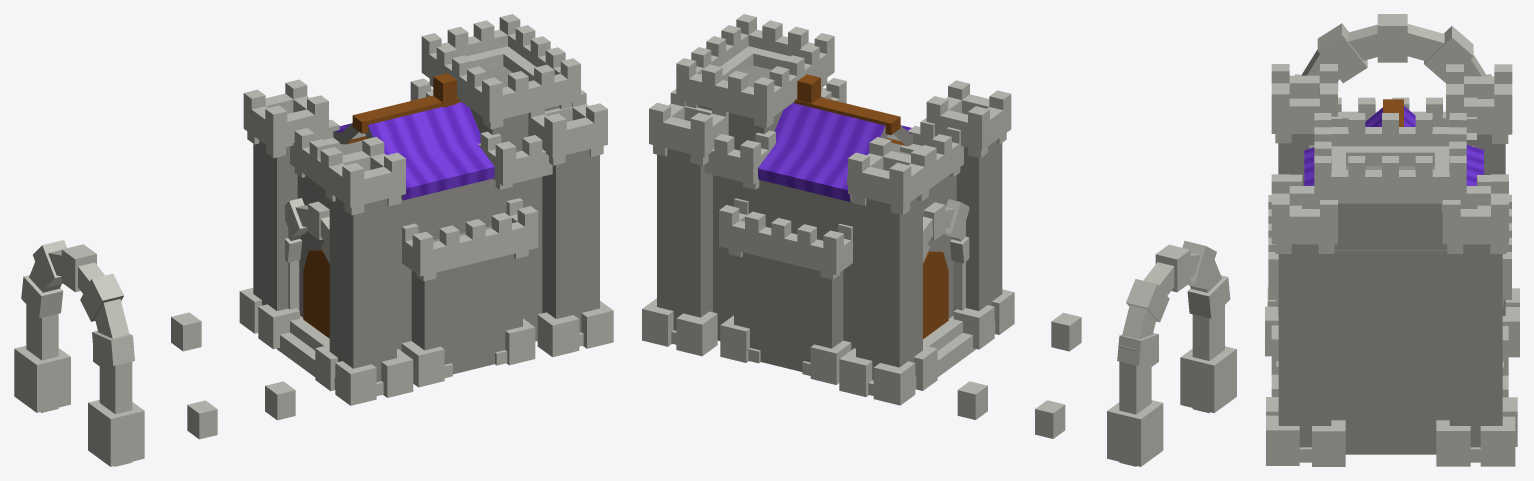
Rendered from chamberofwar.fbx.
3 renders of one model, left to right at view 1: azimuth 30°, elevation 25°; view 2: azimuth 150°, elevation 25°; view 3: azimuth 270°, elevation 25°, orthographic. The views are drawn at different scales.
Parts seen in each view (by area): view 1: polySurface436; view 2: polySurface436; view 3: polySurface436.
Part boxes in pixels (left/top/right/bottom): polySurface436: left=14, top=14, right=613, bottom=466; polySurface436: left=642, top=14, right=1236, bottom=466; polySurface436: left=1265, top=14, right=1519, bottom=466.
Bounding box in the file's own units: 308 × 167 × 123.
Materials: 1 (1 with a texture image).
